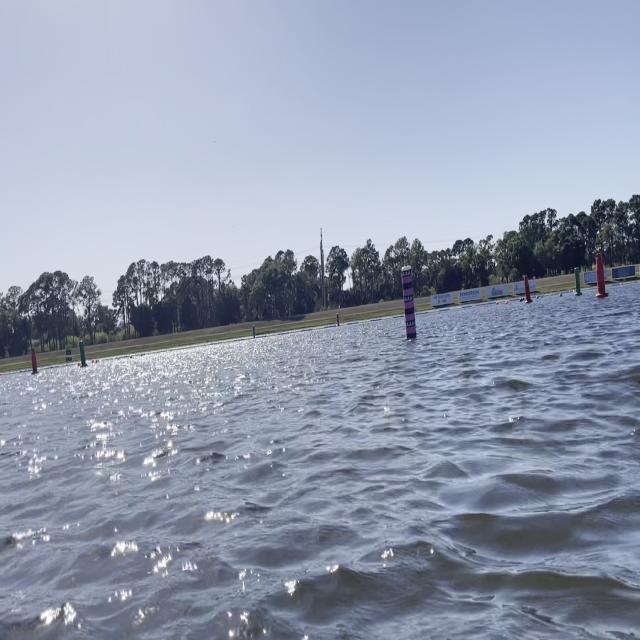buoy: (495, 298, 500, 306), (504, 300, 510, 306), (520, 297, 522, 302), (522, 296, 524, 301)
